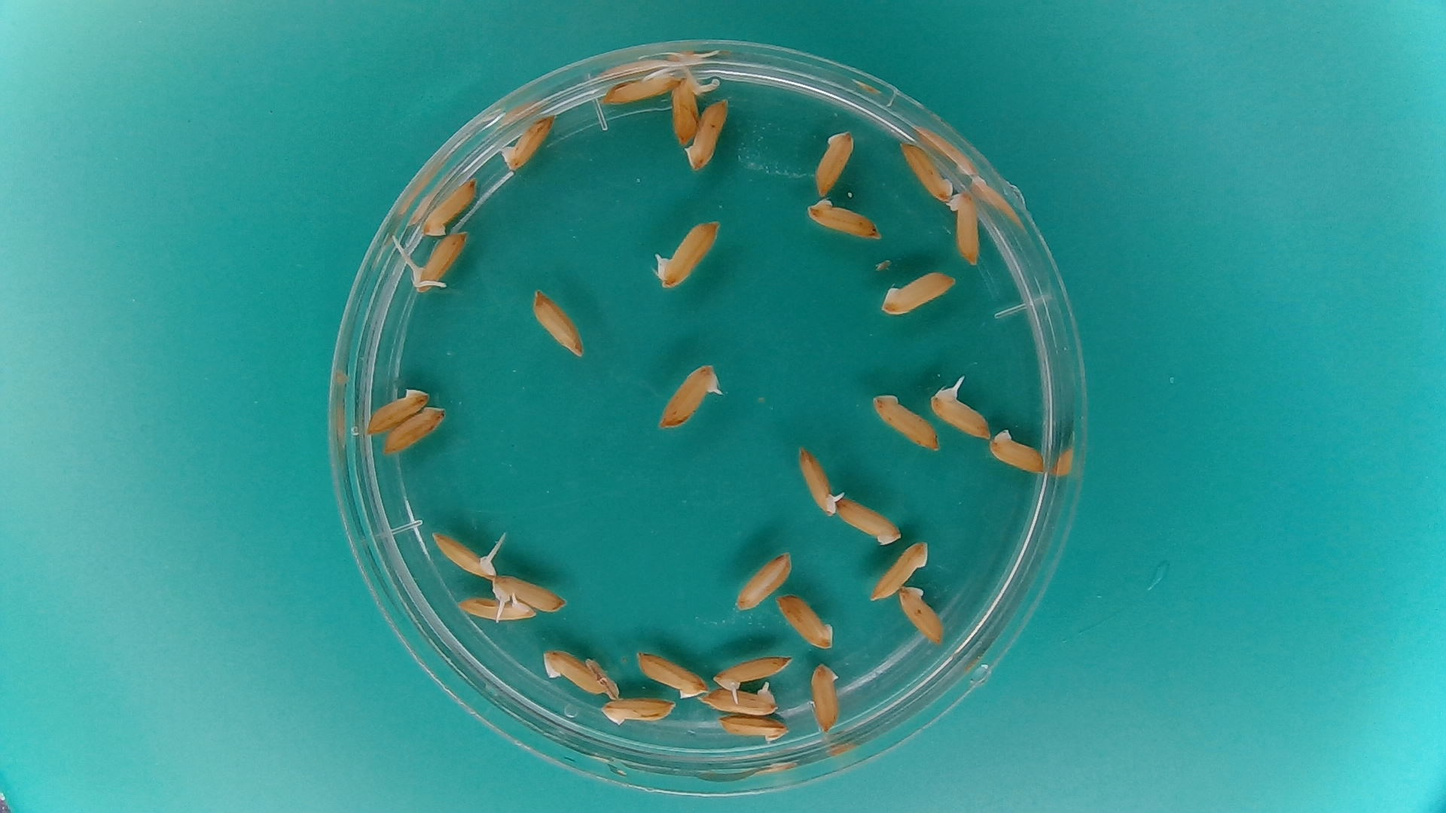no: (869, 390, 941, 453), (868, 537, 933, 604), (539, 644, 615, 701), (529, 285, 587, 359), (633, 647, 709, 701), (732, 549, 795, 611), (420, 174, 480, 239), (897, 139, 957, 204), (803, 195, 885, 242), (685, 95, 733, 175), (878, 268, 958, 316), (381, 403, 452, 457), (836, 494, 905, 547), (367, 382, 433, 437), (774, 591, 835, 650), (810, 124, 858, 197), (599, 68, 679, 108), (898, 586, 947, 647), (945, 188, 982, 268), (988, 426, 1048, 475), (808, 659, 845, 733), (597, 693, 678, 726), (712, 711, 791, 744)
yes: (657, 216, 718, 291), (660, 360, 721, 430), (429, 531, 502, 583), (410, 231, 471, 293), (795, 444, 844, 519), (929, 384, 993, 440), (489, 571, 570, 615), (503, 110, 555, 171), (704, 679, 785, 717), (712, 655, 791, 693), (669, 69, 703, 145), (457, 590, 538, 621)
